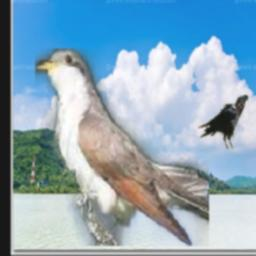Crow: (197, 94, 248, 149)
Cuckoo: (35, 50, 209, 247)
